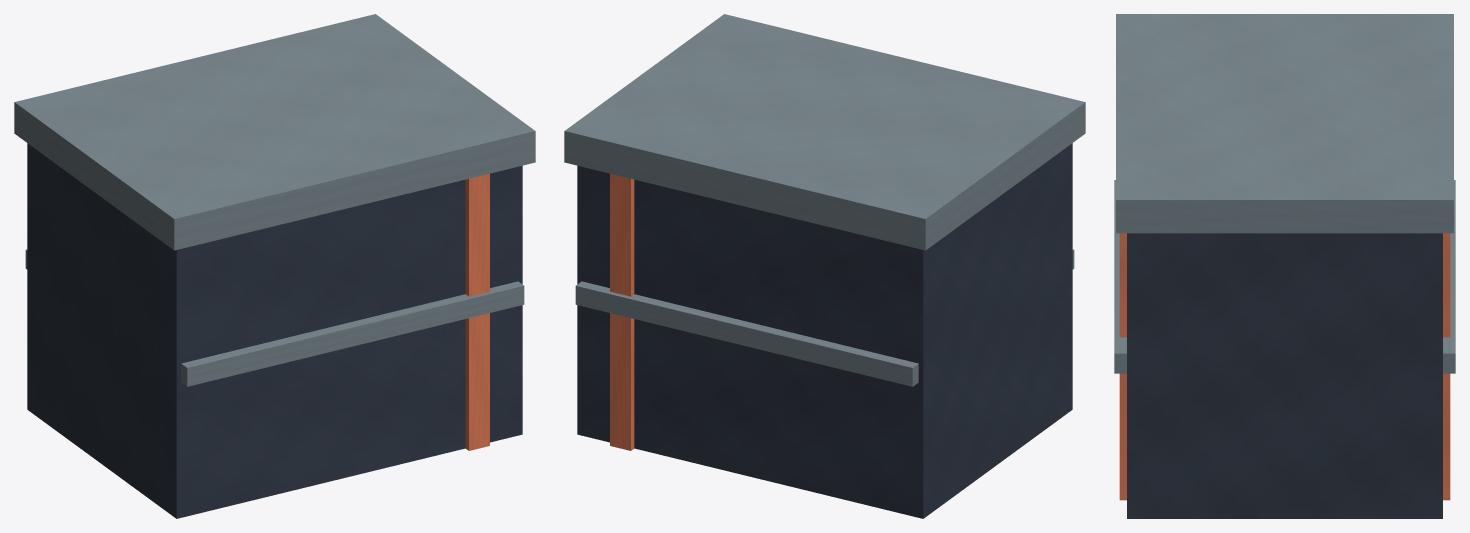
The model's file is atlas100-basalt-util02.lod2.glb.
3 views of the same model, side by side, from view 1: azimuth 30°, elevation 25°; view 2: azimuth 150°, elevation 25°; view 3: azimuth 270°, elevation 25° (orthographic). The views are drawn at different scales.
Visible parts, largest first — view 1: atlas100-basalt-util02:part-000, atlas100-basalt-util02:part-005, atlas100-basalt-util02:part-004, atlas100-basalt-util02:part-002; view 2: atlas100-basalt-util02:part-000, atlas100-basalt-util02:part-005, atlas100-basalt-util02:part-003, atlas100-basalt-util02:part-002; view 3: atlas100-basalt-util02:part-000, atlas100-basalt-util02:part-005, atlas100-basalt-util02:part-002, atlas100-basalt-util02:part-003, atlas100-basalt-util02:part-004.
Boxes of the visible parts, x1,y1,x2,y2 form: atlas100-basalt-util02:part-000: (27,143,522,518); atlas100-basalt-util02:part-005: (14,14,535,250); atlas100-basalt-util02:part-004: (181,281,524,386); atlas100-basalt-util02:part-002: (465,173,489,450); atlas100-basalt-util02:part-000: (577,143,1072,518); atlas100-basalt-util02:part-005: (564,14,1085,250); atlas100-basalt-util02:part-003: (575,281,918,386); atlas100-basalt-util02:part-002: (610,173,634,450); atlas100-basalt-util02:part-000: (1127,233,1442,518); atlas100-basalt-util02:part-005: (1116,14,1453,233); atlas100-basalt-util02:part-002: (1119,233,1450,500); atlas100-basalt-util02:part-003: (1443,180,1455,373); atlas100-basalt-util02:part-004: (1114,180,1126,373).
Size of the model in its own units: 1.26 by 1.01 by 0.9728.
Materials: 3 (3 with a texture image).
